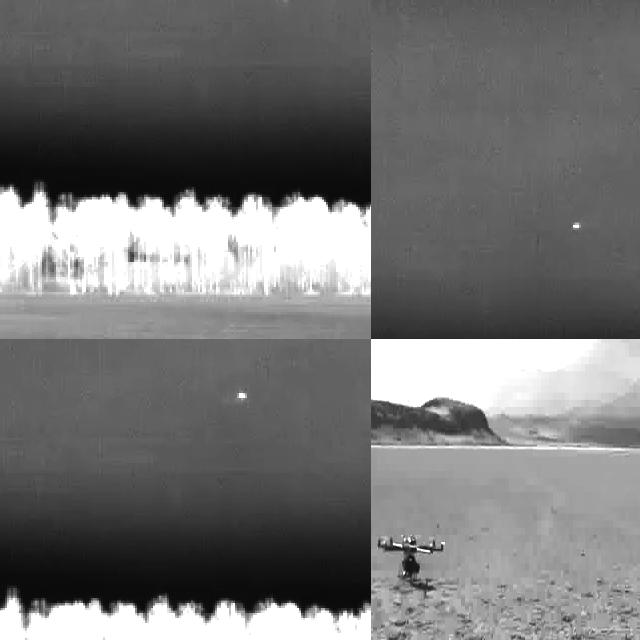1: (554, 210, 590, 250), (221, 380, 255, 418), (267, 0, 293, 11)
drone: (377, 526, 446, 575)
